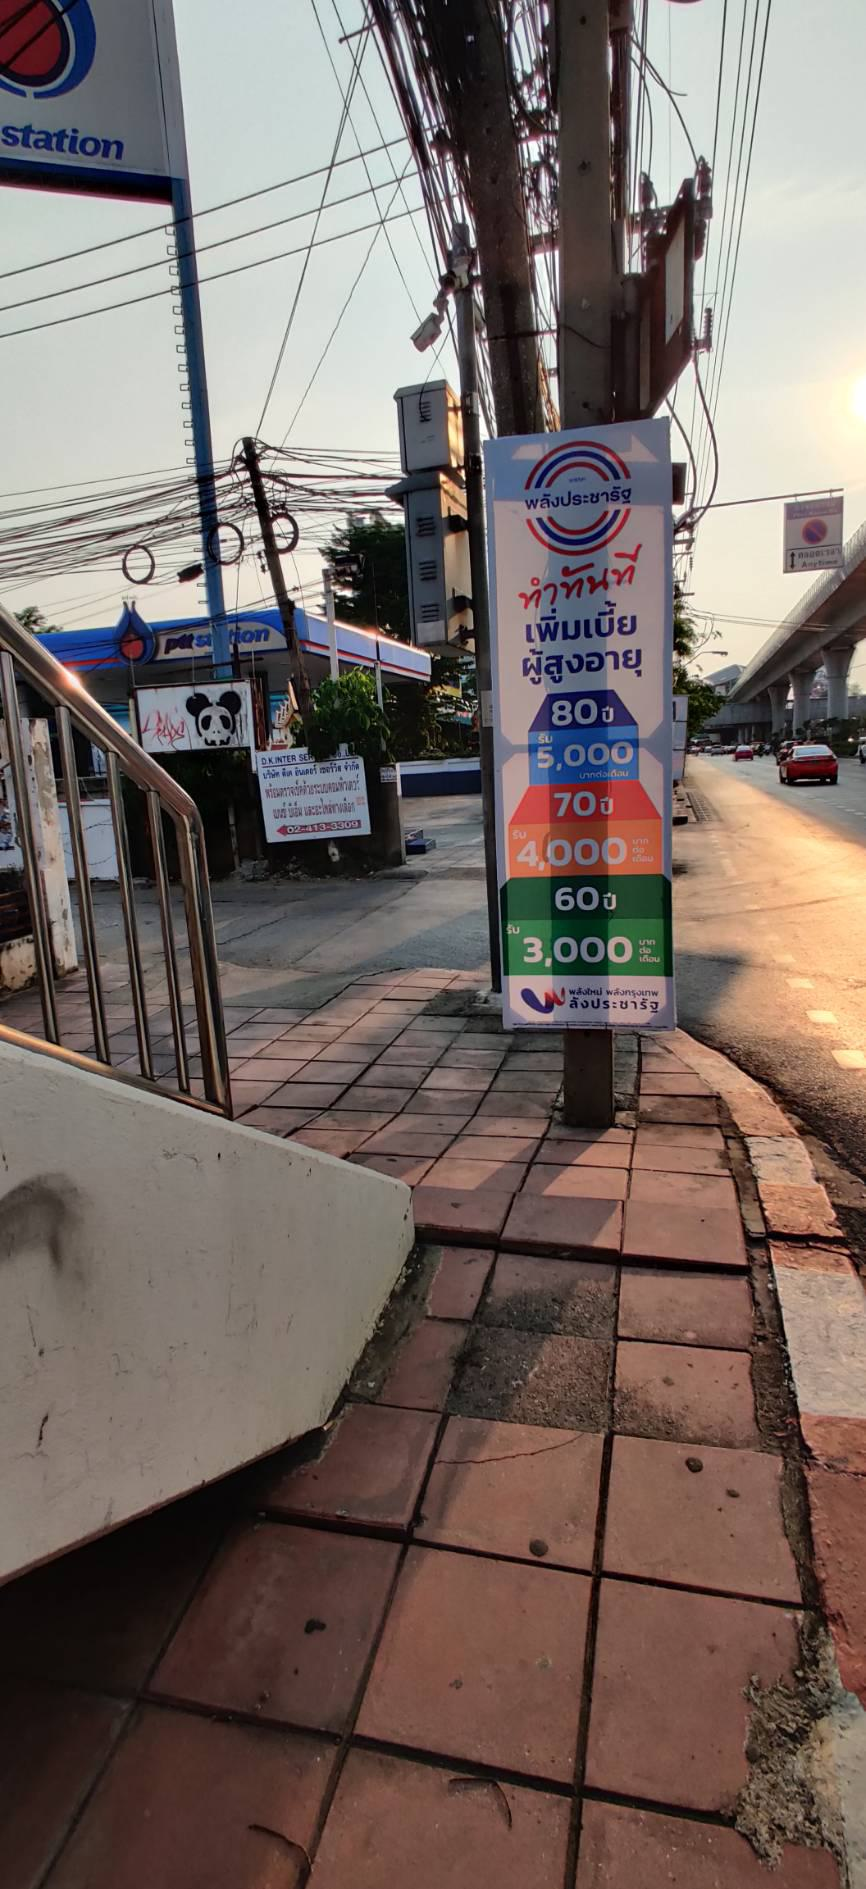Banner: (463, 426, 687, 1032)
